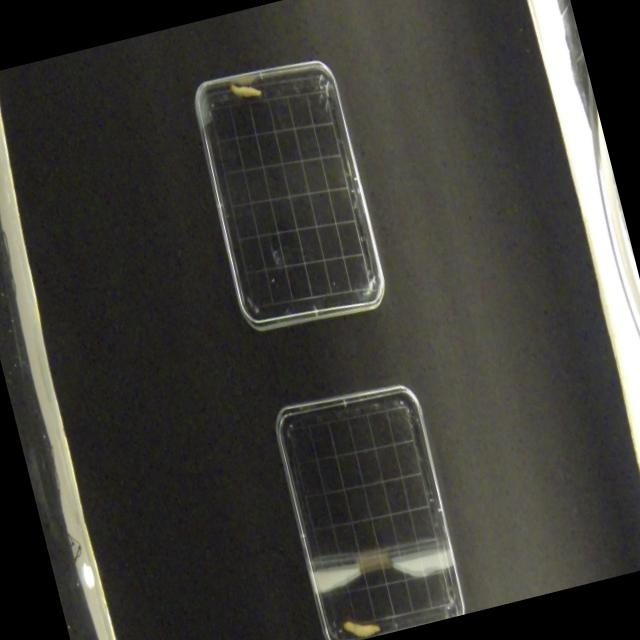larva: (227, 73, 262, 107), (340, 612, 381, 640)
